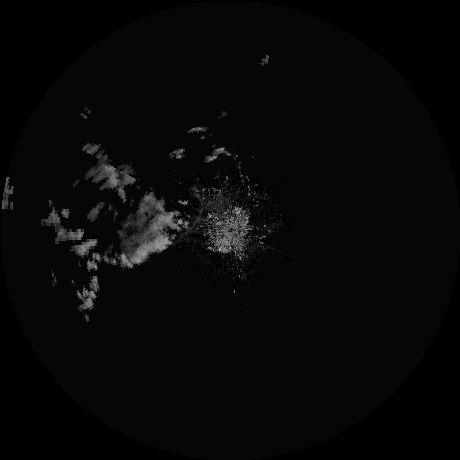frontgust: (184, 195, 205, 234)
